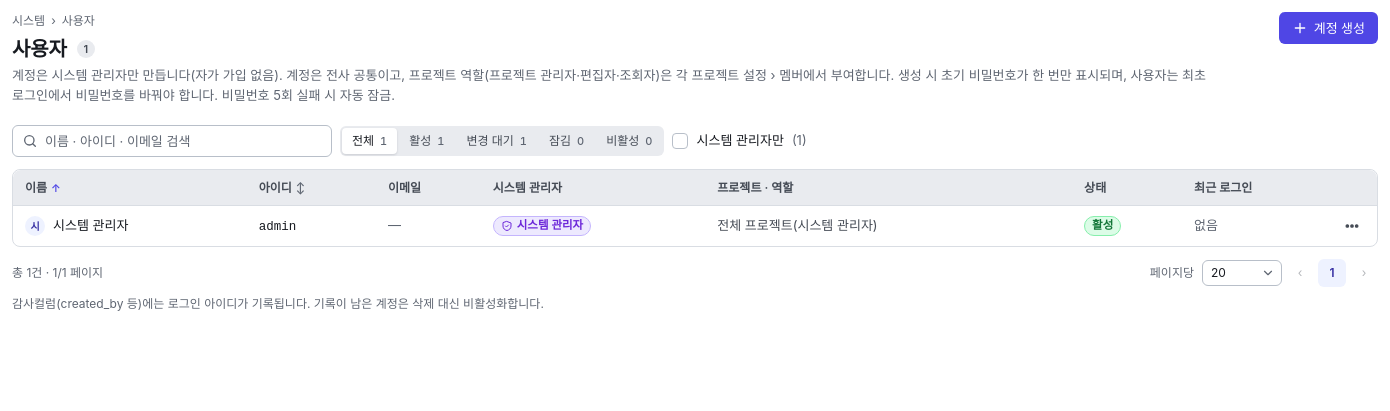
Test: AdminUsersPage › 아이디 중복 409는 입력행 아래 오류로
Click the button "계정 생성". click: (1328, 28)
box: top-left (1279, 12), bottom-right (1378, 44)
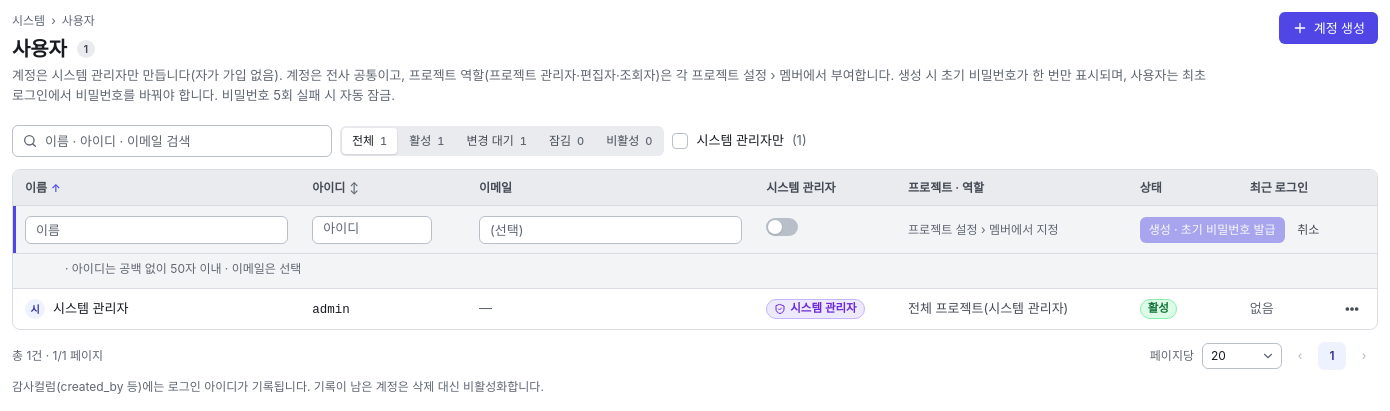
Type "중복" into the field named "이름". click: (157, 230)
box: top-left (25, 216), bottom-right (288, 244)
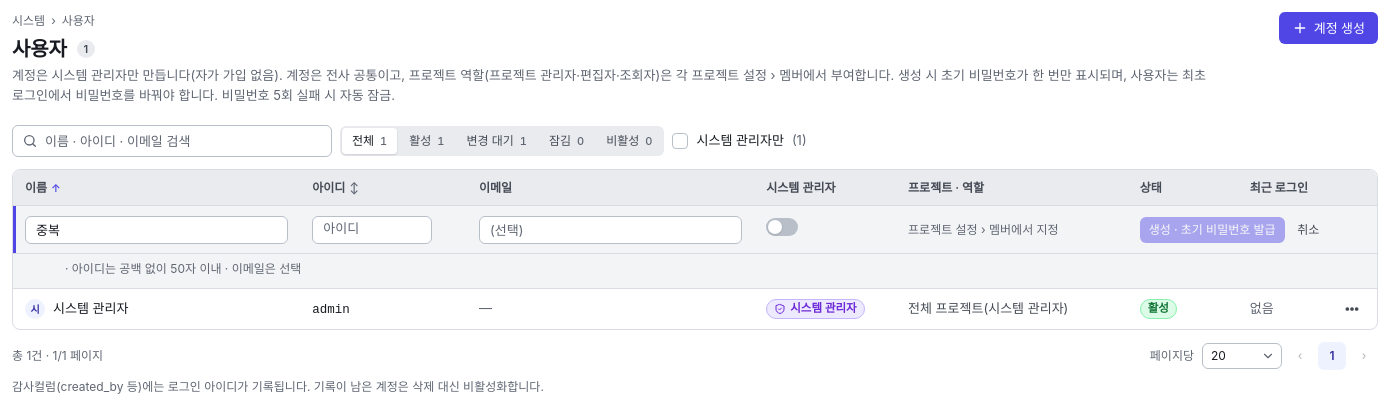
Type "admin" into the field named "아이디". click: (372, 230)
box: top-left (312, 216), bottom-right (432, 244)
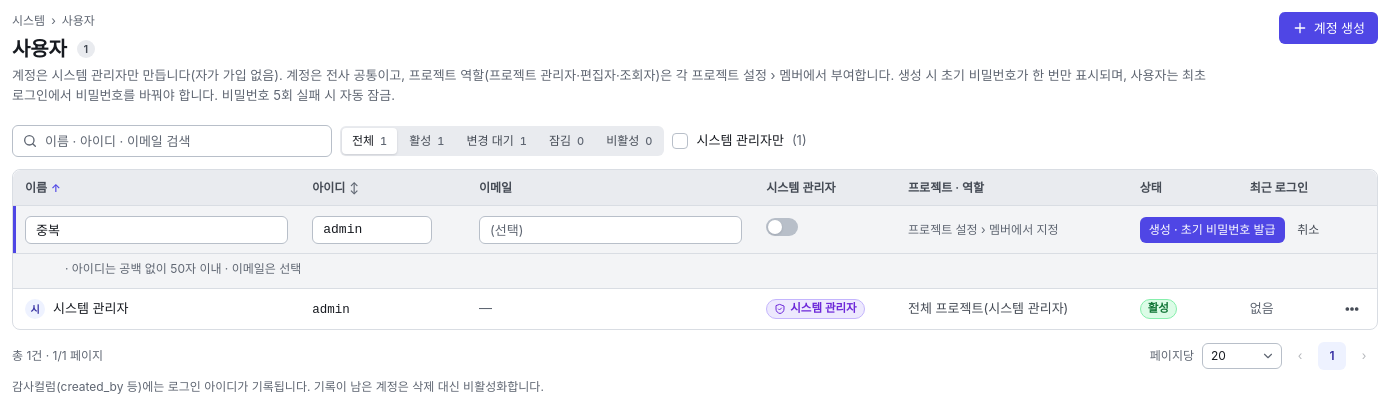
Click the button "생성 · 초기 비밀번호 발급". click: (1212, 230)
box: top-left (1140, 216), bottom-right (1284, 242)
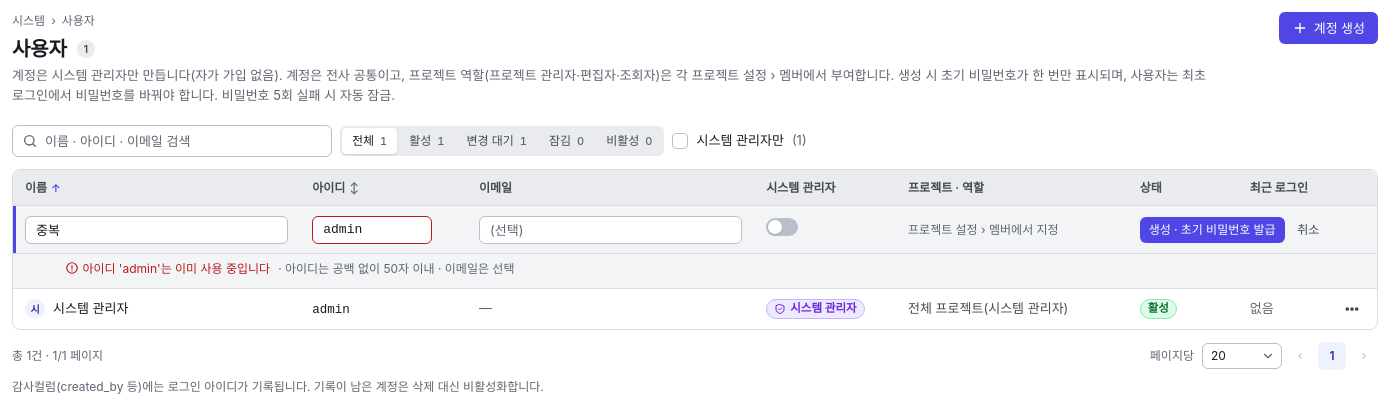
Expected: the text "아이디 'admin'는 이미 사용 중입니다" is shown, top-left (65, 260), bottom-right (270, 278)
